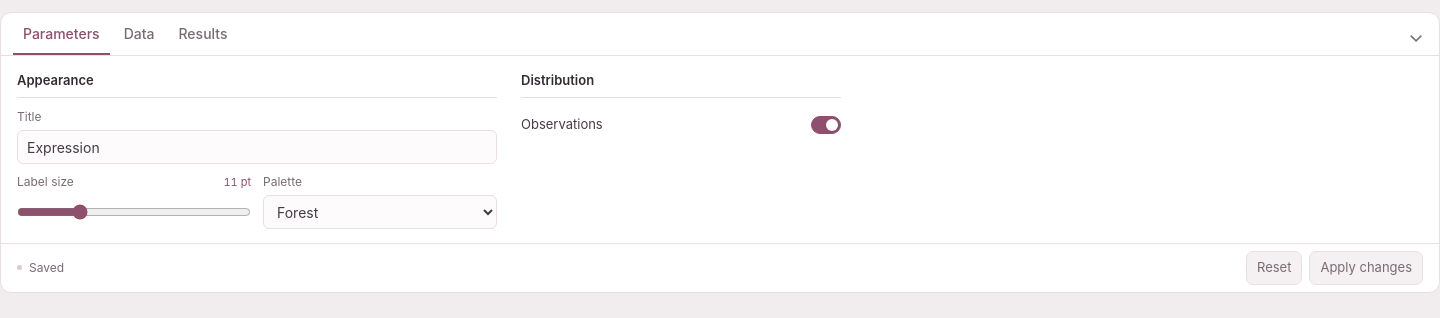
it: renders bottom tabs and submits only typed parameter changes
The width and height of the screenshot is (1440, 318).
Expected: the checkbox labelled "Observations" is shown, [811, 116, 841, 134]
Expected: the button with aria-label "Apply as new version" is disabled, [1309, 251, 1423, 284]
Step 1. Set the slider labelled "Label size 11 pt" to "13" → (188, 212), box [17, 198, 251, 226]
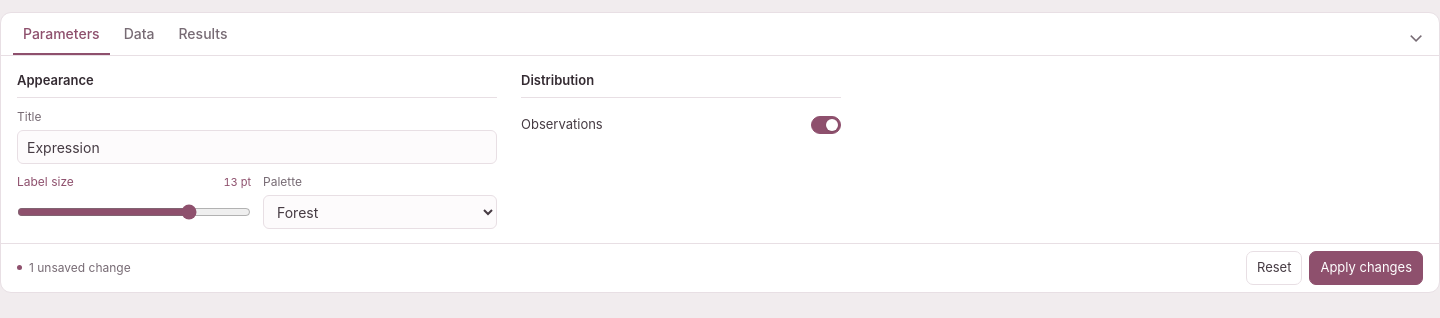
Step 2. Click the checkbox labelled "Observations" → (826, 125), box [811, 116, 841, 134]
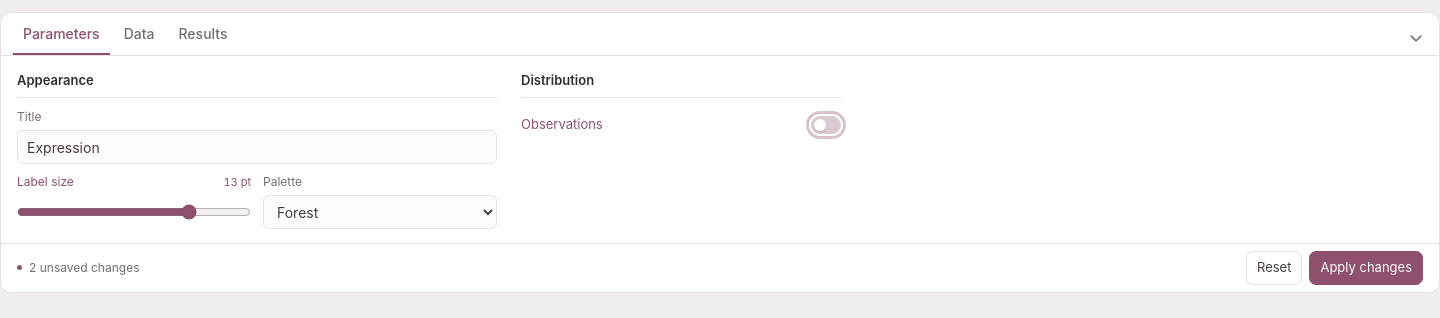
Step 3. Select "Plum" in the dropdown labelled "Palette" → (380, 212), box [263, 195, 497, 229]
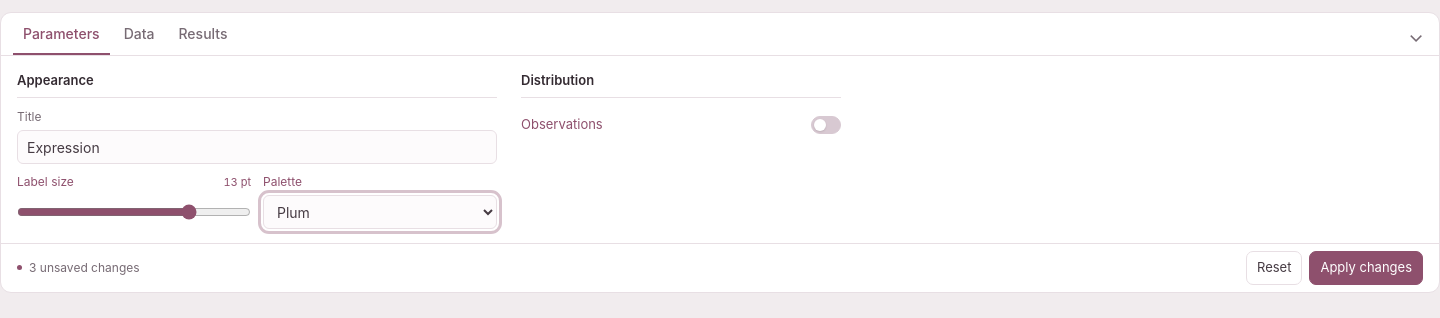
Step 4. Click the button with aria-label "Apply as new version" → (1366, 268), box [1309, 251, 1423, 284]
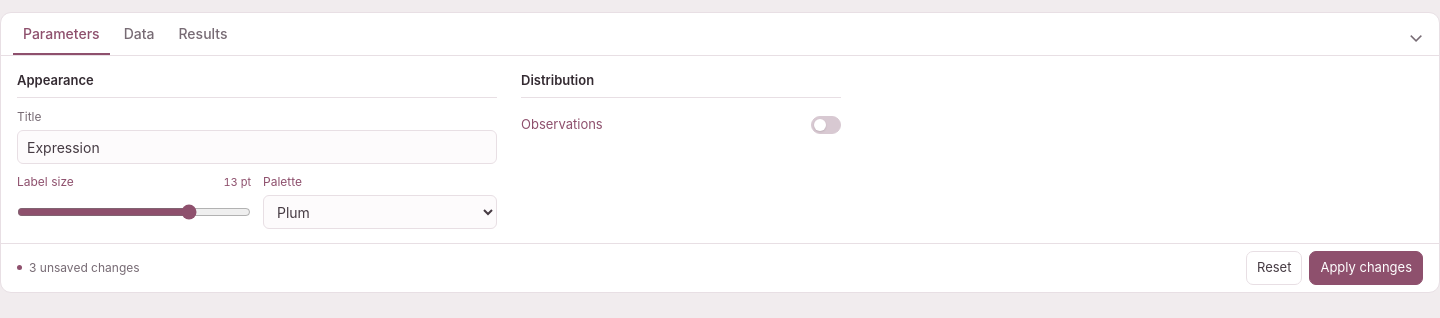
Step 5. Click the tab "Data" → (139, 34), box [114, 13, 164, 55]
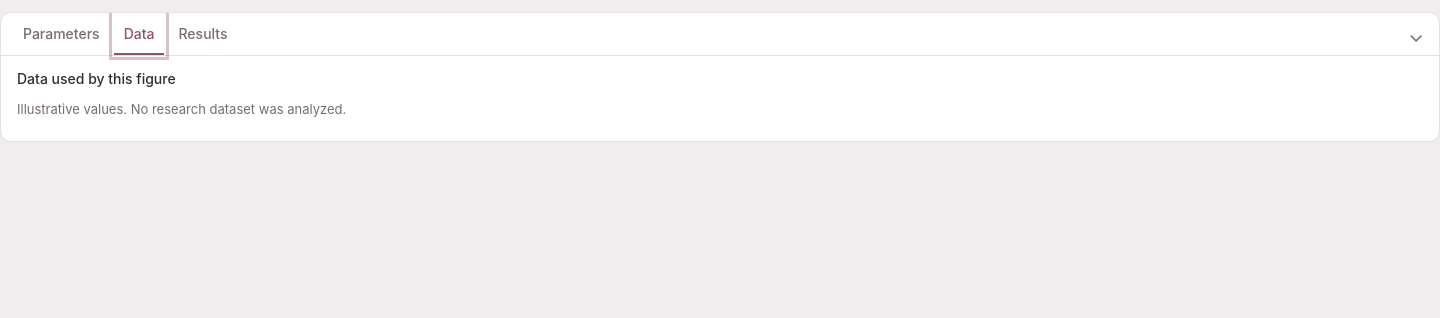
Now the text "Illustrative values. No research dataset was analyzed." is shown, box [17, 101, 346, 117]
Now the slider is gone
Step 6. Click the tab "Results" → (203, 34), box [168, 13, 238, 55]
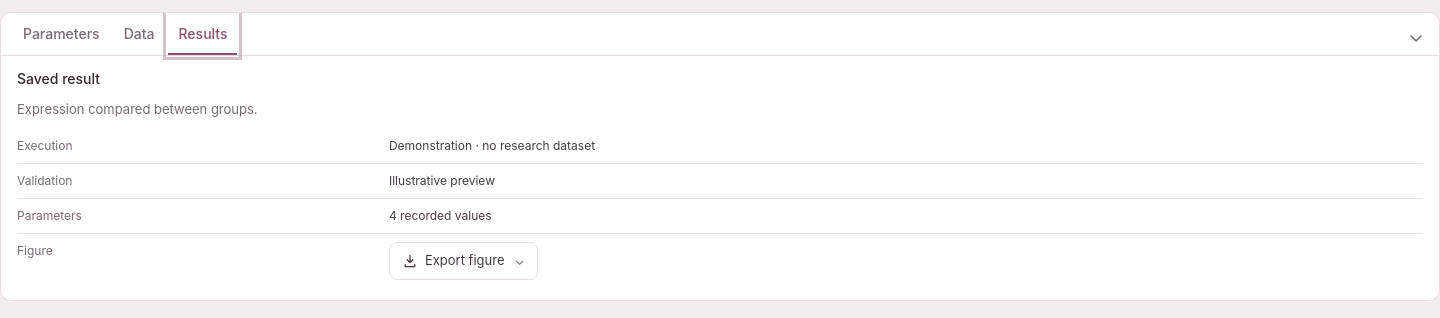
Now the text "Expression compared between groups." is shown, box [17, 101, 258, 117]
Now the button "Export figure ⌄" is shown, box [389, 242, 538, 280]
